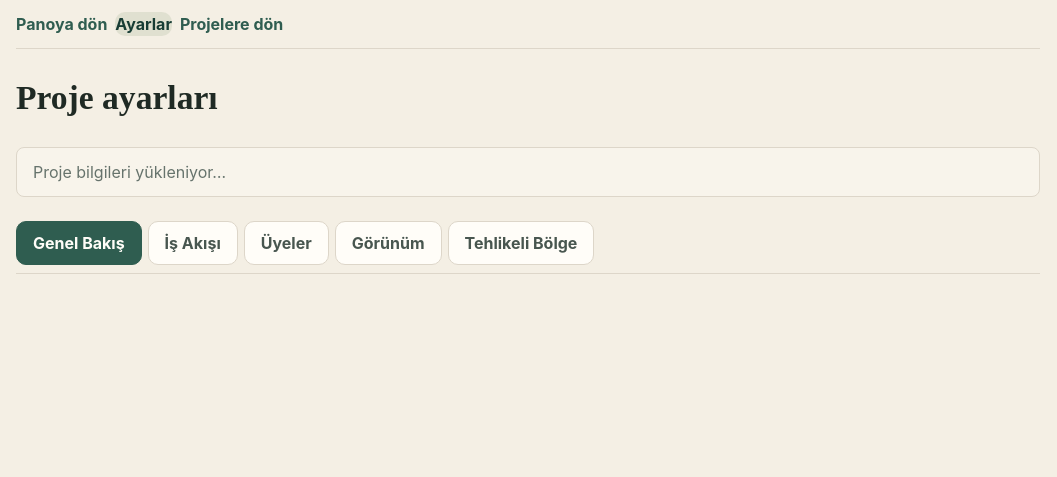
Test: ProjectSettingsPage › page states › shows a loading status while fetching project and members
This screenshot has width=1057, height=477.
Click the tab "Üyeler". click: {"x": 286, "y": 243}
box: [244,221,329,265]
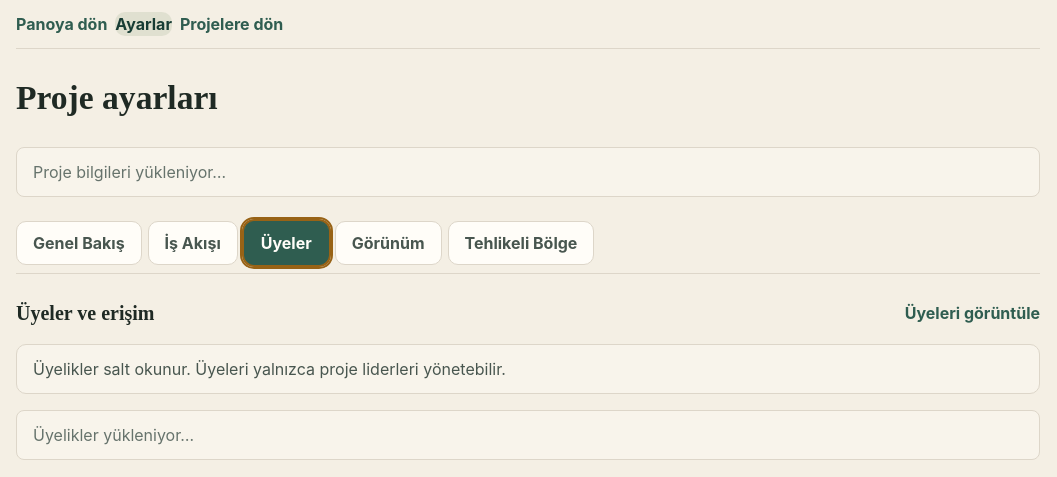
Expected: the text "Proje bilgileri yükleniyor…" is shown, [16,147,1040,197]
Now the text "Üyelikler yükleniyor…" is shown, box [16,410,1040,460]
